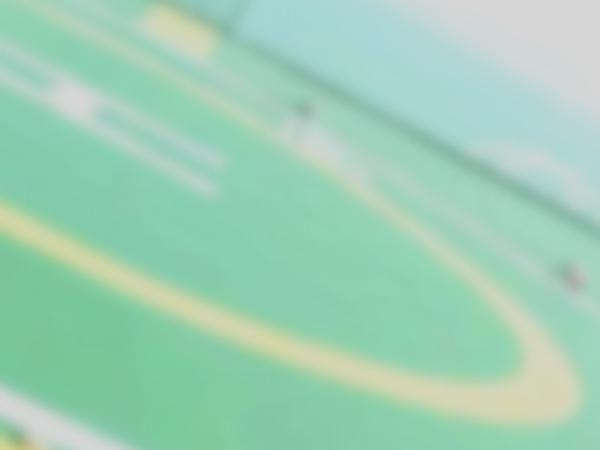Apron: (3, 1, 592, 429)
